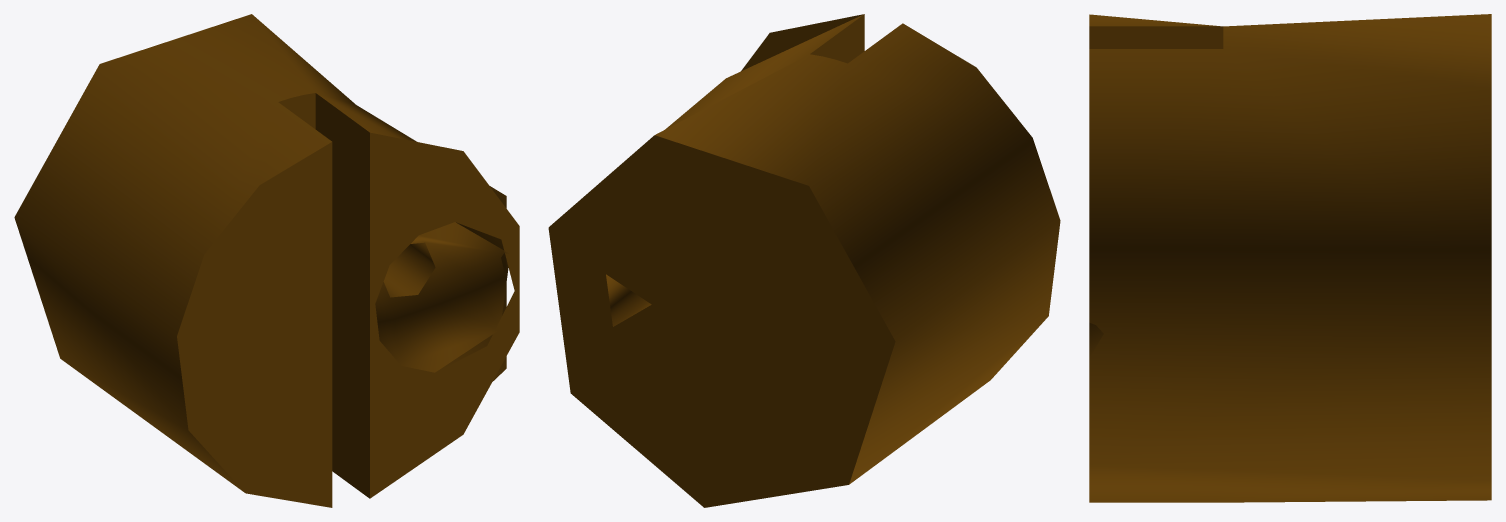
File: Pallier axe ancre (7.5_1.2).obj
The picture shows the model from 3 angles, left to right: view 1: azimuth 30°, elevation 25°; view 2: azimuth 150°, elevation 25°; view 3: azimuth 270°, elevation 25°; orthographic projection. The views are drawn at different scales.
Visible parts, largest first — view 1: Face_6, Face_1, Face_4, Face_8, Face_3, Face_5, Face_9; view 2: Face_2, Face_6, Face_4, Face_8, Face_5; view 3: Face_6, Face_7.
Boxes of the visible parts, x1=… form: Face_6: x1=14, y1=14, x2=506, y2=492; Face_1: x1=177, y1=142, x2=332, y2=507; Face_4: x1=370, y1=132, x2=519, y2=498; Face_8: x1=315, y1=93, x2=369, y2=498; Face_3: x1=375, y1=222, x2=508, y2=372; Face_5: x1=383, y1=242, x2=435, y2=297; Face_9: x1=278, y1=93, x2=315, y2=129; Face_2: x1=548, y1=135, x2=895, y2=507; Face_6: x1=655, y1=14, x2=1060, y2=484; Face_4: x1=741, y1=14, x2=863, y2=71; Face_8: x1=810, y1=14, x2=864, y2=63; Face_5: x1=606, y1=274, x2=651, y2=326; Face_6: x1=1089, y1=14, x2=1491, y2=502; Face_7: x1=1089, y1=26, x2=1223, y2=48.
Size of the model in its own units: 0.0073 by 0.0075 by 0.006.
